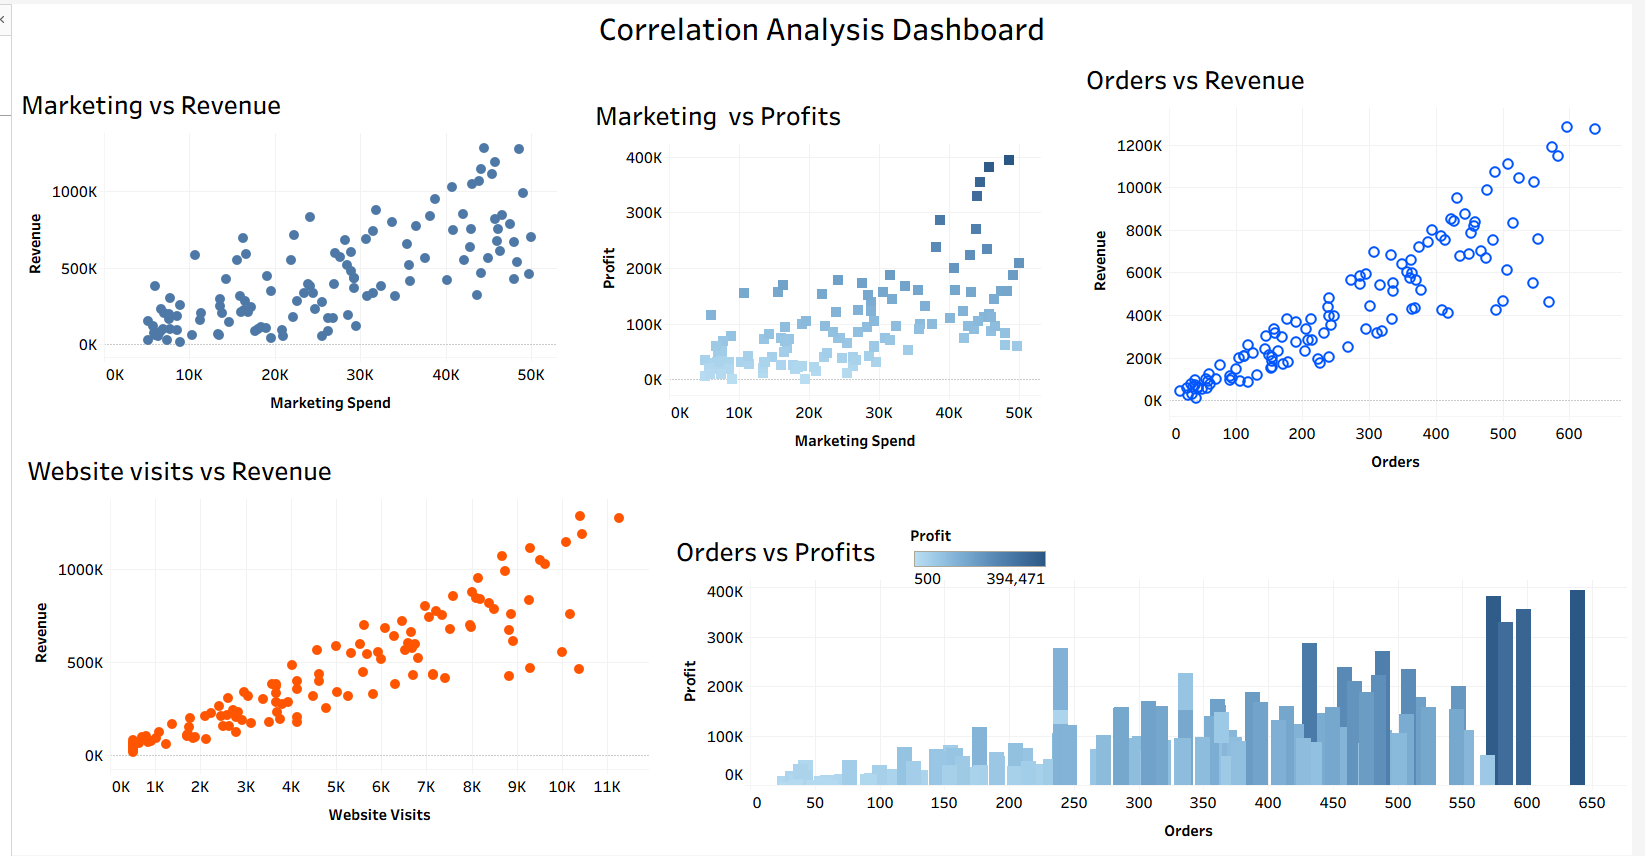

This screenshot's page, from the dashboard's own definition file:
{"tool":"tableau","page":{"name":"Dashboard 1","canvas":[1620,860],"ordinal":0},"visuals":[{"type":"title","box":[8,8,1604,49]},{"type":"worksheet","title":"Sheet 3","mark":"Automatic","rows":["Revenue"],"cols":["Orders"],"box":[1070,63,540,421]},{"type":"worksheet","title":"Sheet 1","mark":"Circle","rows":["Revenue"],"cols":["Marketing_Spend"],"box":[5,88,540,337]},{"type":"worksheet","title":"Sheet 5","mark":"Square","rows":["Profit"],"cols":["Marketing_Spend"],"box":[579,99,450,364]},{"type":"worksheet","title":"Sheet 2","mark":"Circle","rows":["Revenue"],"cols":["Website_Visits"],"box":[11,454,626,383]},{"type":"legend","title":"Sheet 4","param":"[federated.0rf2mze063izvl1ax9rc41t7tseg].[sum:Profit:qk]","box":[898,530,140,88]},{"type":"worksheet","title":"Sheet 4","mark":"Bar","rows":["Profit"],"cols":["Orders"],"box":[660,535,955,318]}]}

Visuals, with their boxes in screenshot pixels (x1, y1, x2, y2), scaled from the page's 1620x860 canvas onto the 1645x856 screenshot:
title: crop(8, 8, 1637, 57)
"Sheet 3" worksheet: crop(1087, 63, 1635, 482)
"Sheet 1" worksheet (Circle marks): crop(5, 88, 553, 423)
"Sheet 5" worksheet (Square marks): crop(588, 99, 1045, 461)
"Sheet 2" worksheet (Circle marks): crop(11, 452, 647, 833)
"Sheet 4" legend: crop(912, 528, 1054, 615)
"Sheet 4" worksheet (Bar marks): crop(670, 533, 1640, 849)
